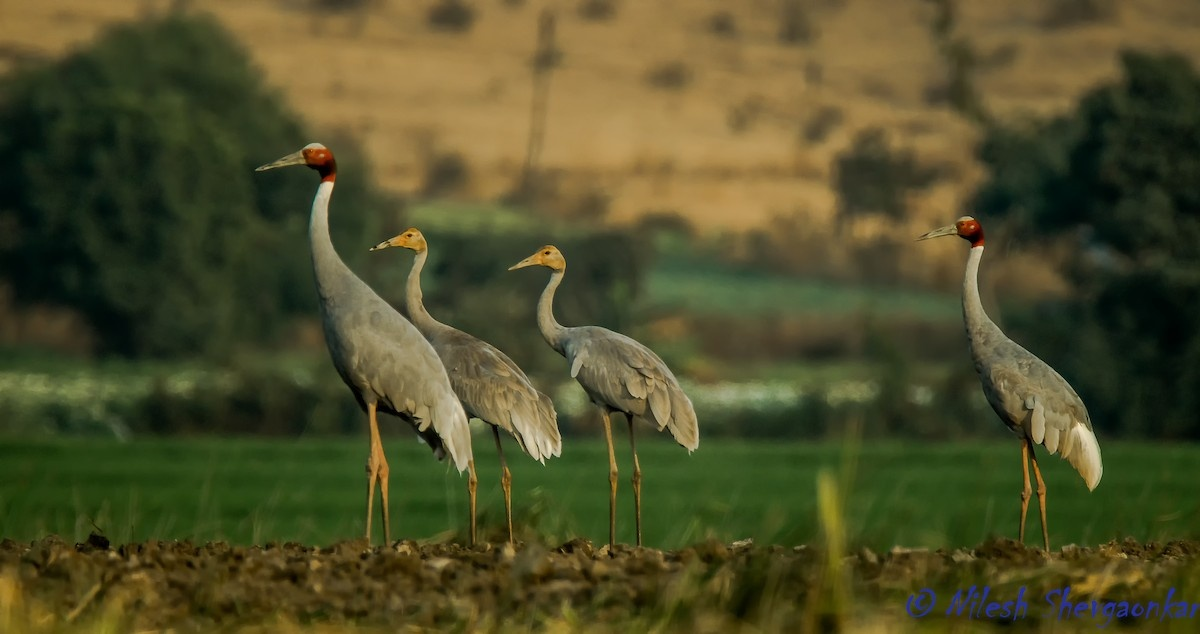crane: (249, 134, 469, 540), (912, 200, 1105, 539), (368, 214, 565, 546), (504, 233, 707, 539)
